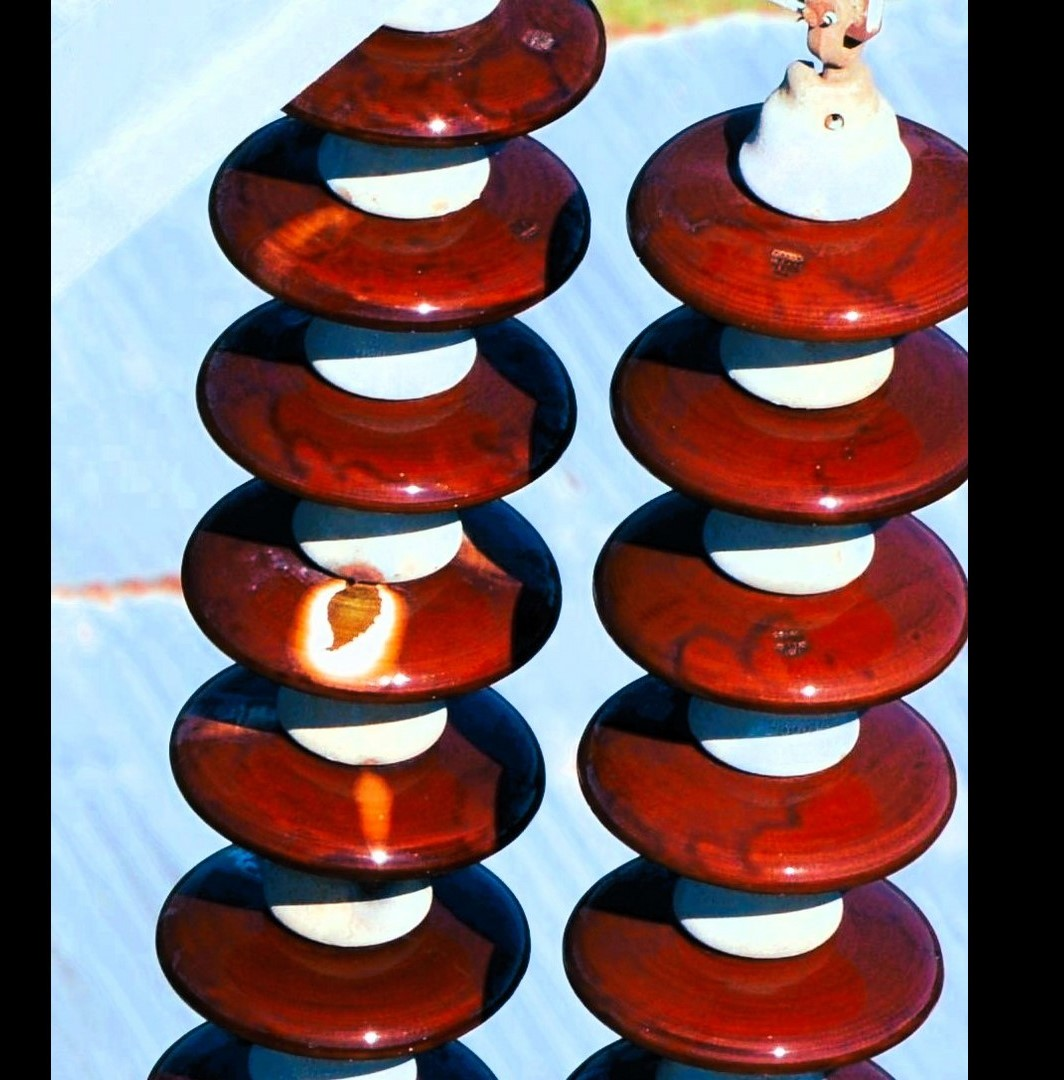Insulator flashover: (174, 468, 574, 711)
